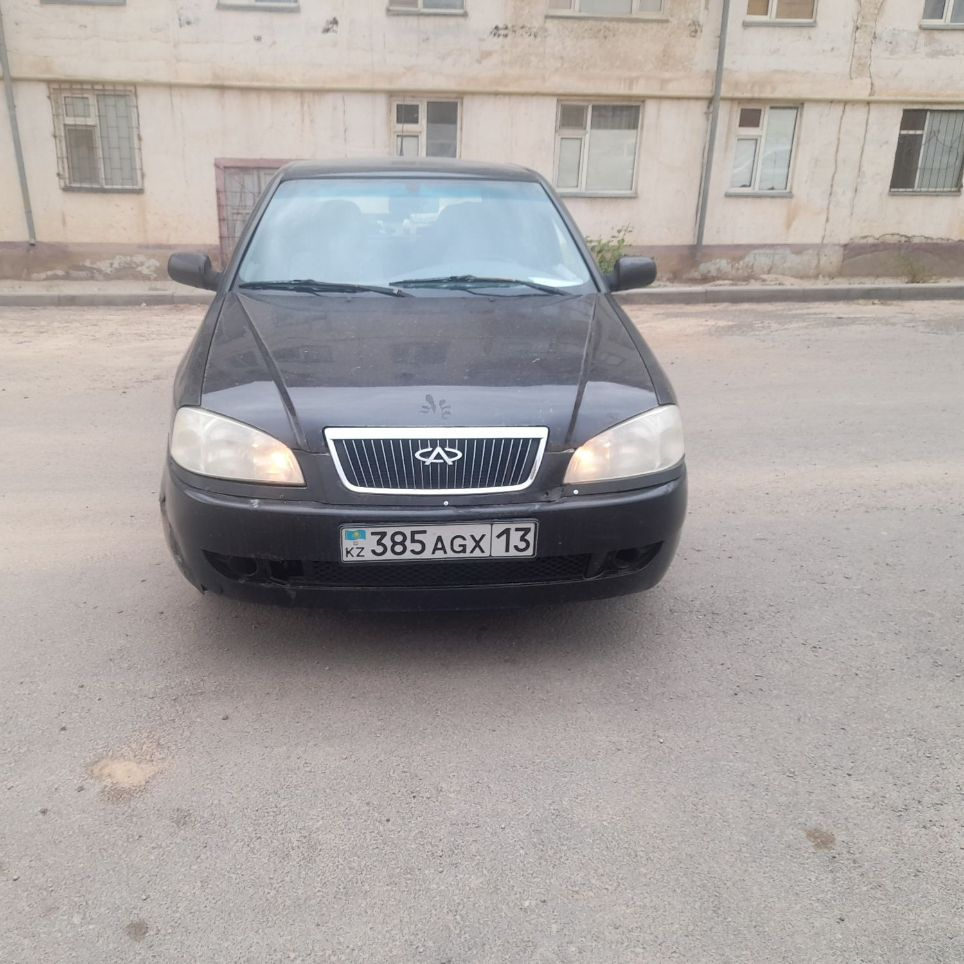license plate: (343, 521, 537, 561)
truck: (169, 160, 689, 604)
